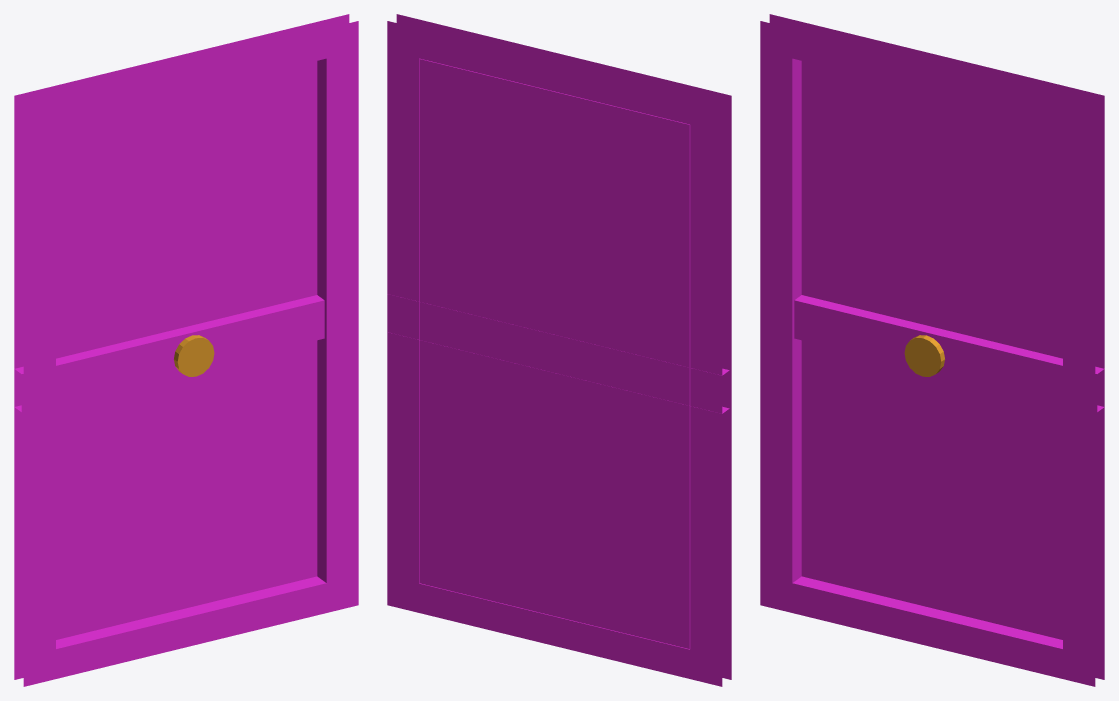
Rendered from DoorN.fbx.
3 views of the same model, side by side, from view 1: azimuth 30°, elevation 25°; view 2: azimuth 150°, elevation 25°; view 3: azimuth 330°, elevation 25° (orthographic).
Parts seen in each view (by area): view 1: DoorN; view 2: DoorN; view 3: DoorN.
Part boxes in pixels (left/top/right/bottom): DoorN: left=14, top=14, right=358, bottom=686; DoorN: left=387, top=14, right=731, bottom=686; DoorN: left=760, top=14, right=1104, bottom=686.
Size of the model in its own units: 120 by 200 by 9.12.
